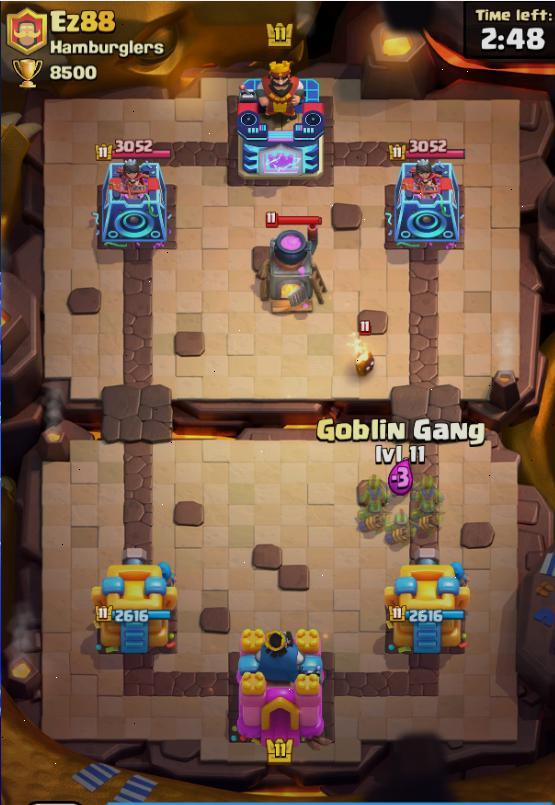EFirespirit: (352, 328, 374, 376)
EKingTower: (237, 61, 324, 179)
EnemyPrincessTower: (385, 141, 464, 248), (96, 141, 170, 247)
OCannoneerTower: (385, 553, 469, 652), (92, 555, 176, 653)
OGoblin: (357, 475, 389, 509), (411, 475, 440, 510)
OSpearGoblin: (410, 501, 439, 542), (358, 501, 387, 534), (385, 508, 409, 546)
OwnKingTower: (229, 629, 331, 745)
